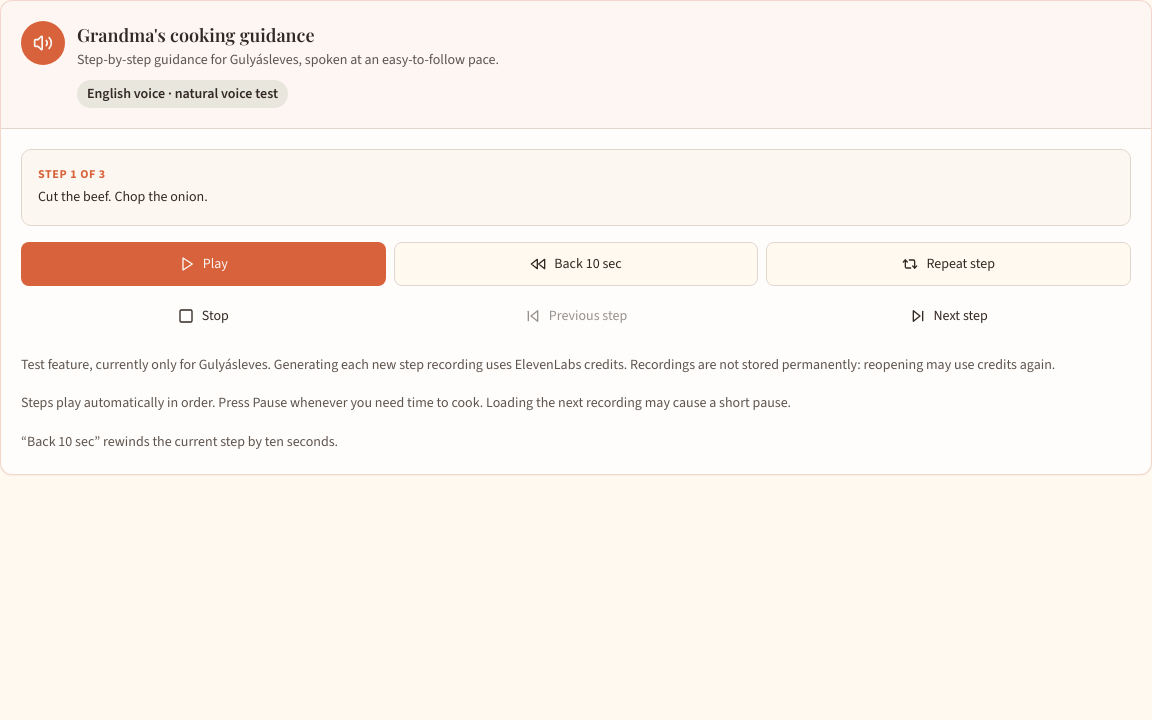
Scenario: Hungarian and English custom voice guidance › shows a localized service error and can retry without a browser fallback (en)
Click the button "Play" at (203, 264), box 21,242 -> 386,286
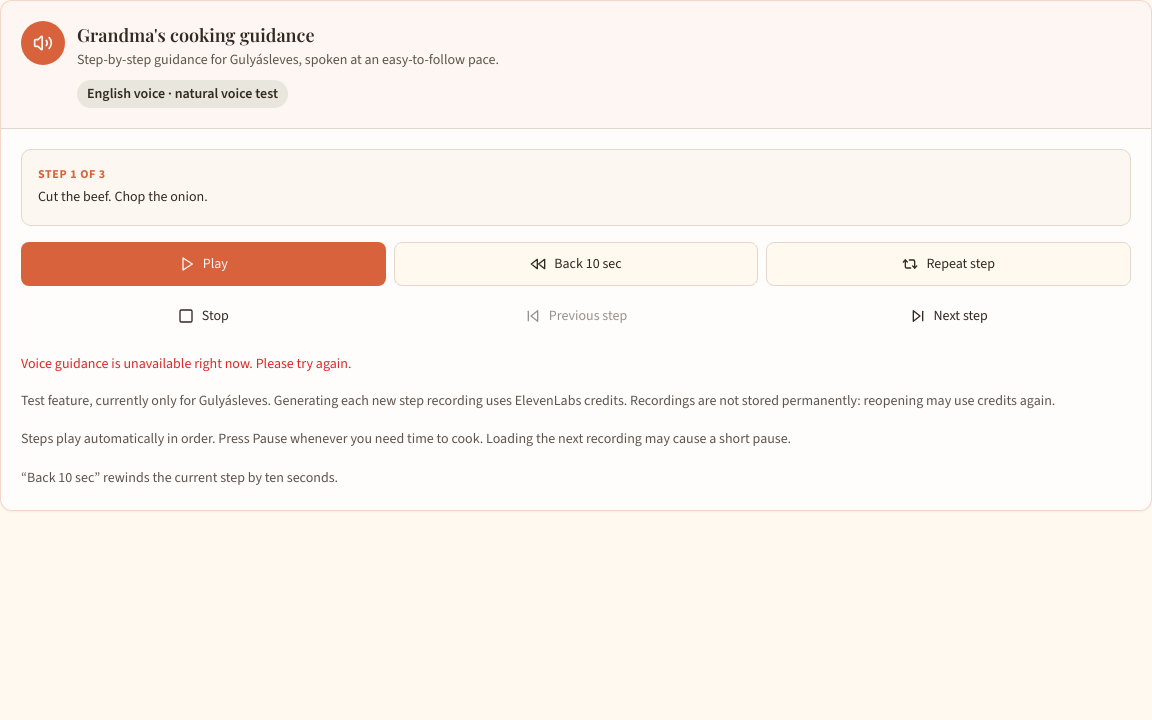
Expected: the message shows "Voice guidance is unavailable", 21,354 -> 351,372
Click the button "Play" at (203, 264), box 21,242 -> 386,286
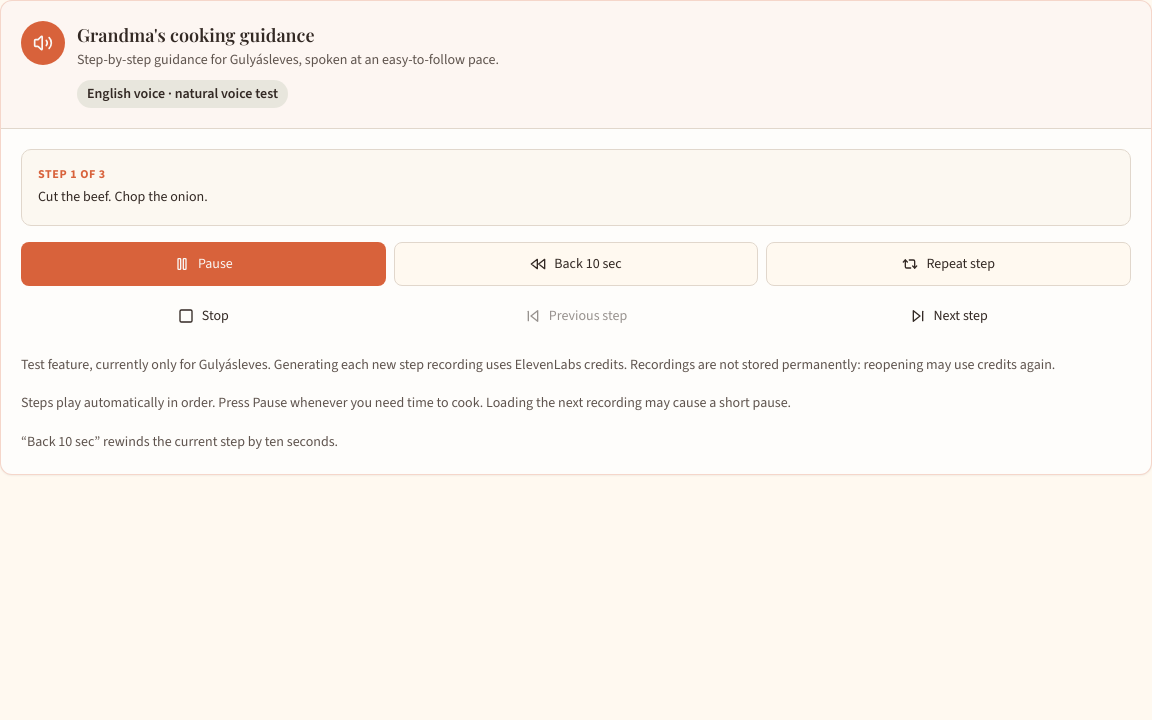
Expected: the button "Pause" is shown, 21,242 -> 386,286
Expected: the message "Voice guidance is unavailable right now. Please try again." is gone
